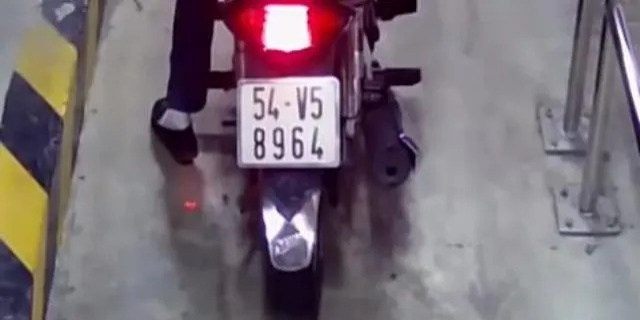bien_so: (235, 75, 342, 167)
